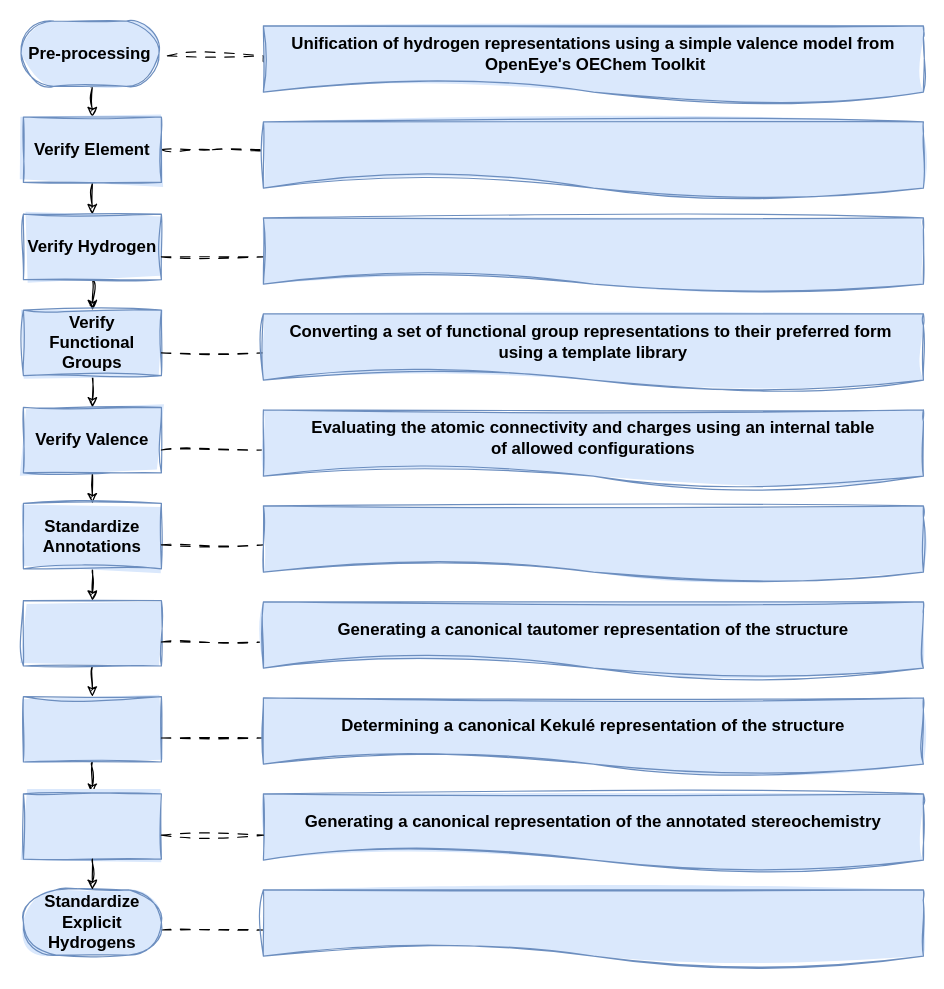
Some shapes in this 944 by 989 pixel diagram are drawn without their labels. Each missing label, with the centre of its shape:
"Checking the validity of the provided element and isotopic information" goes at (592,160).
"Converting the implicit hydrogen atoms to their explicit counterparts" goes at (592,928).
"Removing perceived PubChem-specific bond-type annotations" goes at (592,544).
"Standardize Aromaticity" goes at (91,728).
"Standardize Stereochemistry" goes at (91,826).
"Standardize Valence Bond Form" goes at (91,632).
"Updating the number of implicit hydrogen atom counts as necessary" goes at (592,256).
